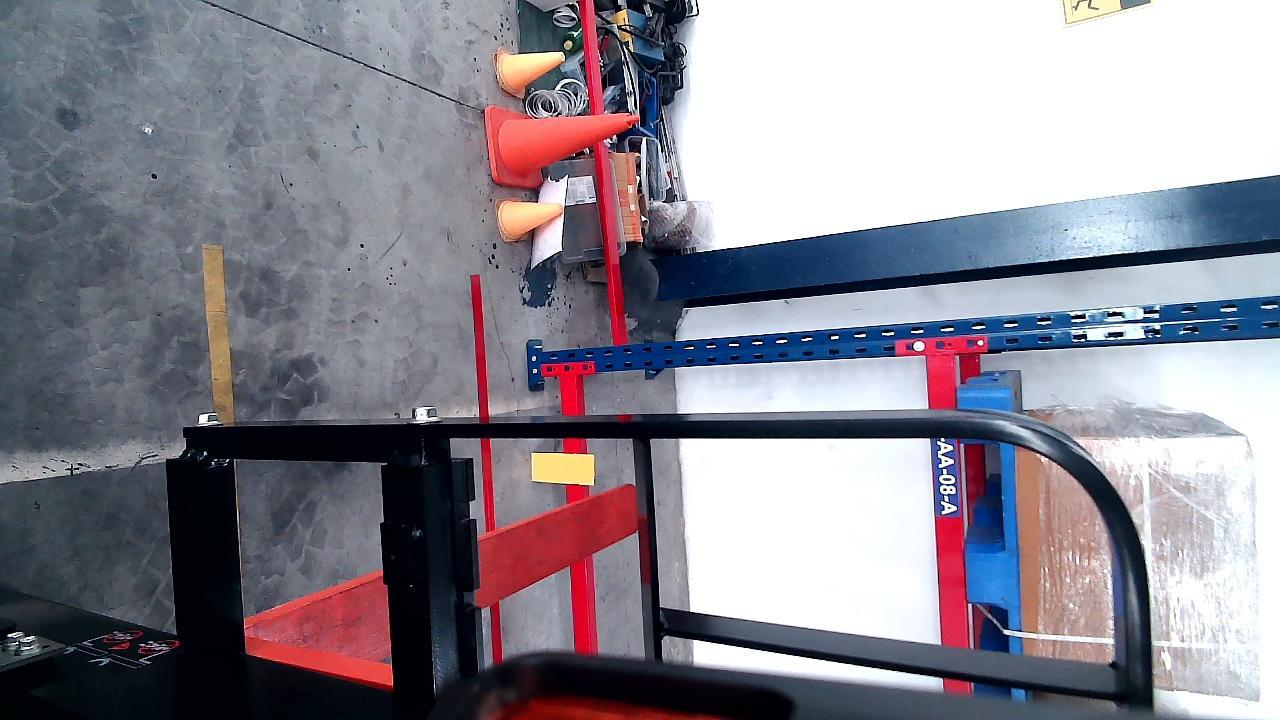red_line: (468, 272, 504, 665)
yellow_line: (203, 238, 235, 422)
